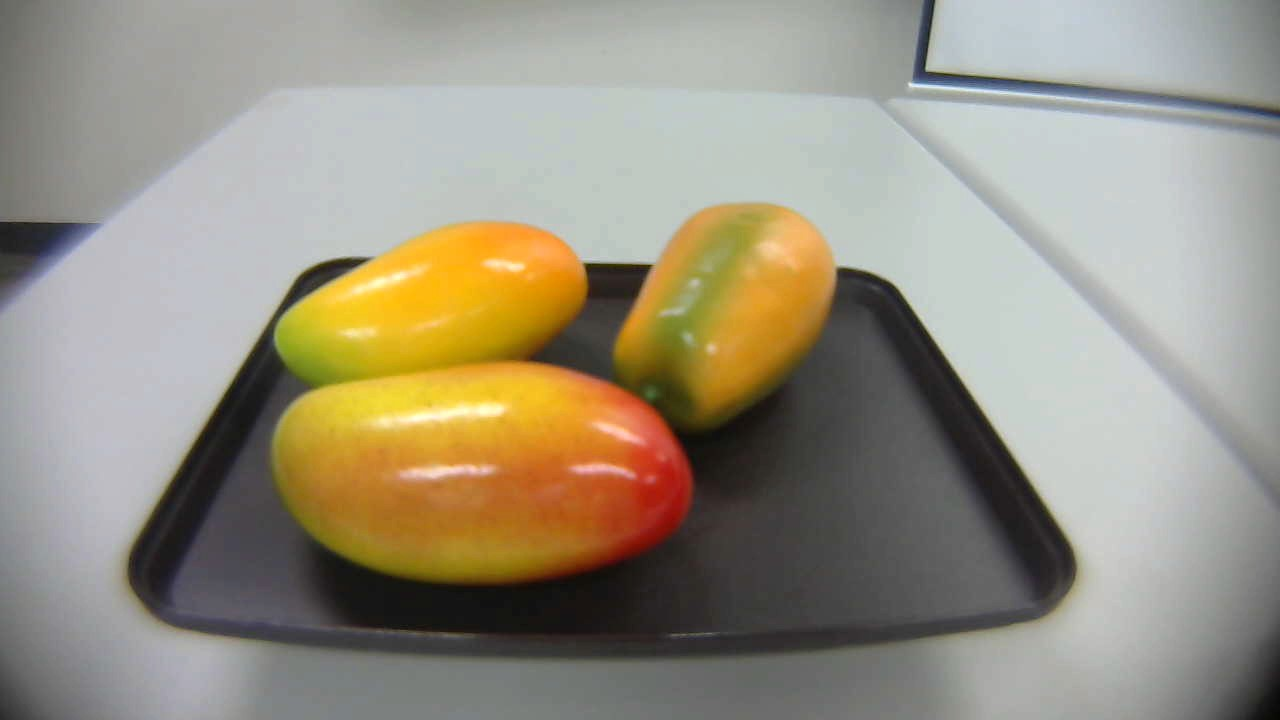papya: (610, 188, 836, 453)
red mango: (260, 356, 694, 572)
yellow mango: (260, 216, 588, 379)
